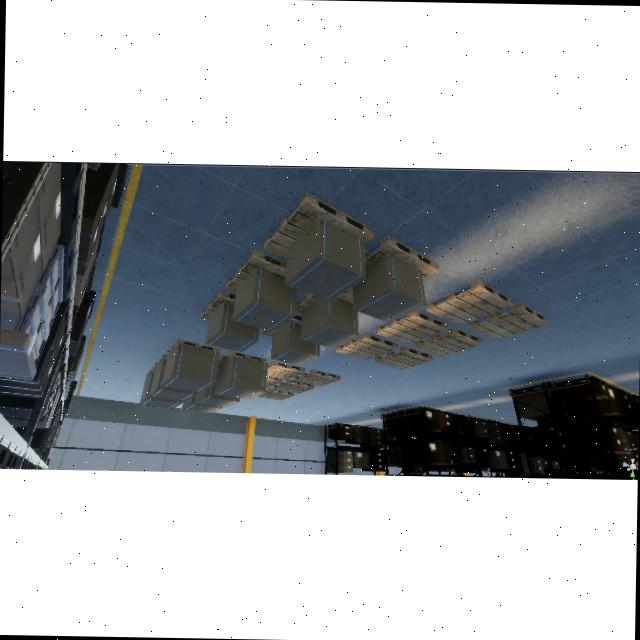wooden_pallet: (262, 192, 376, 259), (425, 280, 512, 325), (362, 237, 438, 280), (467, 302, 548, 340), (226, 249, 287, 291), (373, 310, 448, 344), (416, 327, 482, 358), (336, 334, 398, 361), (375, 345, 433, 370), (201, 290, 237, 320), (165, 339, 220, 357), (294, 369, 341, 386), (266, 361, 305, 380), (217, 351, 266, 366), (272, 379, 314, 394), (257, 388, 294, 400), (265, 376, 281, 388)
